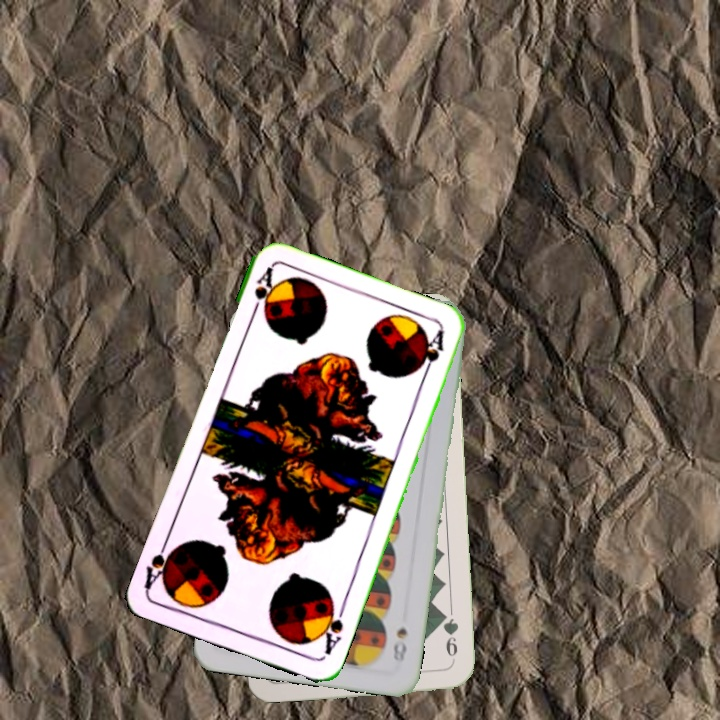G9: (438, 608, 461, 667)
S8: (389, 623, 410, 666)
SA: (314, 598, 348, 658), (247, 263, 278, 321)
